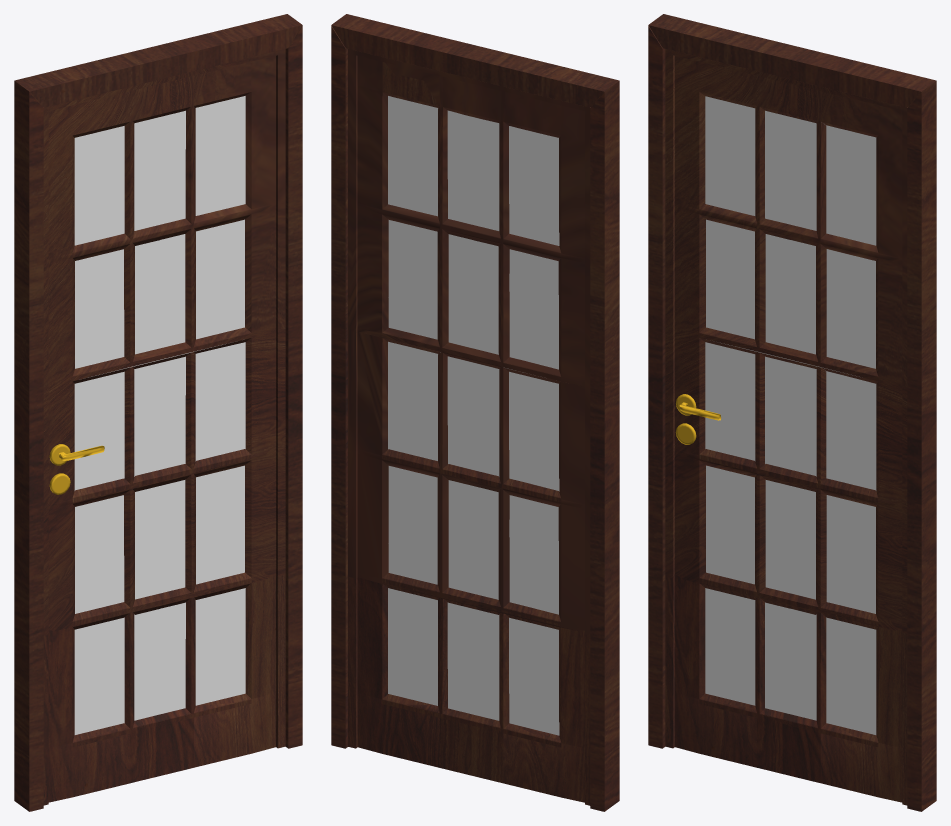
Rendered from PUERTA27_VENEZIA.glb.
3 views of the same model, side by side, from view 1: azimuth 30°, elevation 25°; view 2: azimuth 150°, elevation 25°; view 3: azimuth 330°, elevation 25° (orthographic).
Parts seen in each view (by area): view 1: Puerta27_VENEZIA, CRISTAL_GRANDE, Puerta27_Marco, Puerta27_Cerradura; view 2: Puerta27_VENEZIA, CRISTAL_GRANDE, Puerta27_Marco; view 3: Puerta27_VENEZIA, CRISTAL_GRANDE, Puerta27_Marco, Puerta27_Cerradura.
Boxes of the visible parts, <box> form: Puerta27_VENEZIA: <box>43,49,285,805</box>; CRISTAL_GRANDE: <box>74,96,245,734</box>; Puerta27_Marco: <box>14,14,302,811</box>; Puerta27_Cerradura: <box>49,444,104,494</box>; Puerta27_VENEZIA: <box>348,49,590,805</box>; CRISTAL_GRANDE: <box>388,96,559,735</box>; Puerta27_Marco: <box>331,14,619,811</box>; Puerta27_VENEZIA: <box>665,49,907,805</box>; CRISTAL_GRANDE: <box>705,96,876,734</box>; Puerta27_Marco: <box>648,14,936,811</box>; Puerta27_Cerradura: <box>675,394,721,444</box>.
Size of the model in its own units: 769 by 1936 by 85.
Materials: 5 (3 with a texture image).
